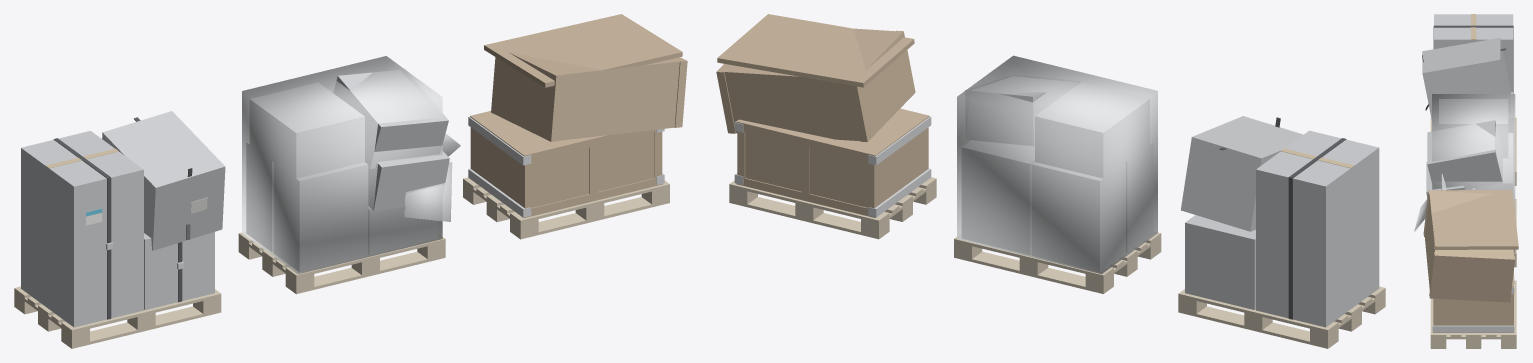
File: unstableboxes.fbx
3 renders of one model, left to right at view 1: azimuth 30°, elevation 25°; view 2: azimuth 150°, elevation 25°; view 3: azimuth 270°, elevation 25°, orthographic. The views are drawn at different scales.
Visible parts, largest first — view 1: Hazard_Cargo_Shrinkwrapped, Hazard_Cargo_Strapped_Boxes, Hazard_Cargo_Wooden_Crate; view 2: Hazard_Cargo_Shrinkwrapped, Hazard_Cargo_Strapped_Boxes, Hazard_Cargo_Wooden_Crate; view 3: Hazard_Cargo_Wooden_Crate, Hazard_Cargo_Shrinkwrapped, Hazard_Cargo_Strapped_Boxes.
Boxes of the visible parts, x1,y1,x2,y2 form: Hazard_Cargo_Shrinkwrapped: [238, 56, 460, 294]; Hazard_Cargo_Strapped_Boxes: [14, 111, 225, 348]; Hazard_Cargo_Wooden_Crate: [463, 14, 687, 239]; Hazard_Cargo_Shrinkwrapped: [954, 55, 1161, 293]; Hazard_Cargo_Strapped_Boxes: [1178, 116, 1385, 348]; Hazard_Cargo_Wooden_Crate: [716, 14, 936, 239]; Hazard_Cargo_Wooden_Crate: [1423, 189, 1518, 348]; Hazard_Cargo_Shrinkwrapped: [1414, 94, 1516, 267]; Hazard_Cargo_Strapped_Boxes: [1422, 14, 1516, 185].
Bounding box in the file's own units: 496 × 129 × 97.53.
